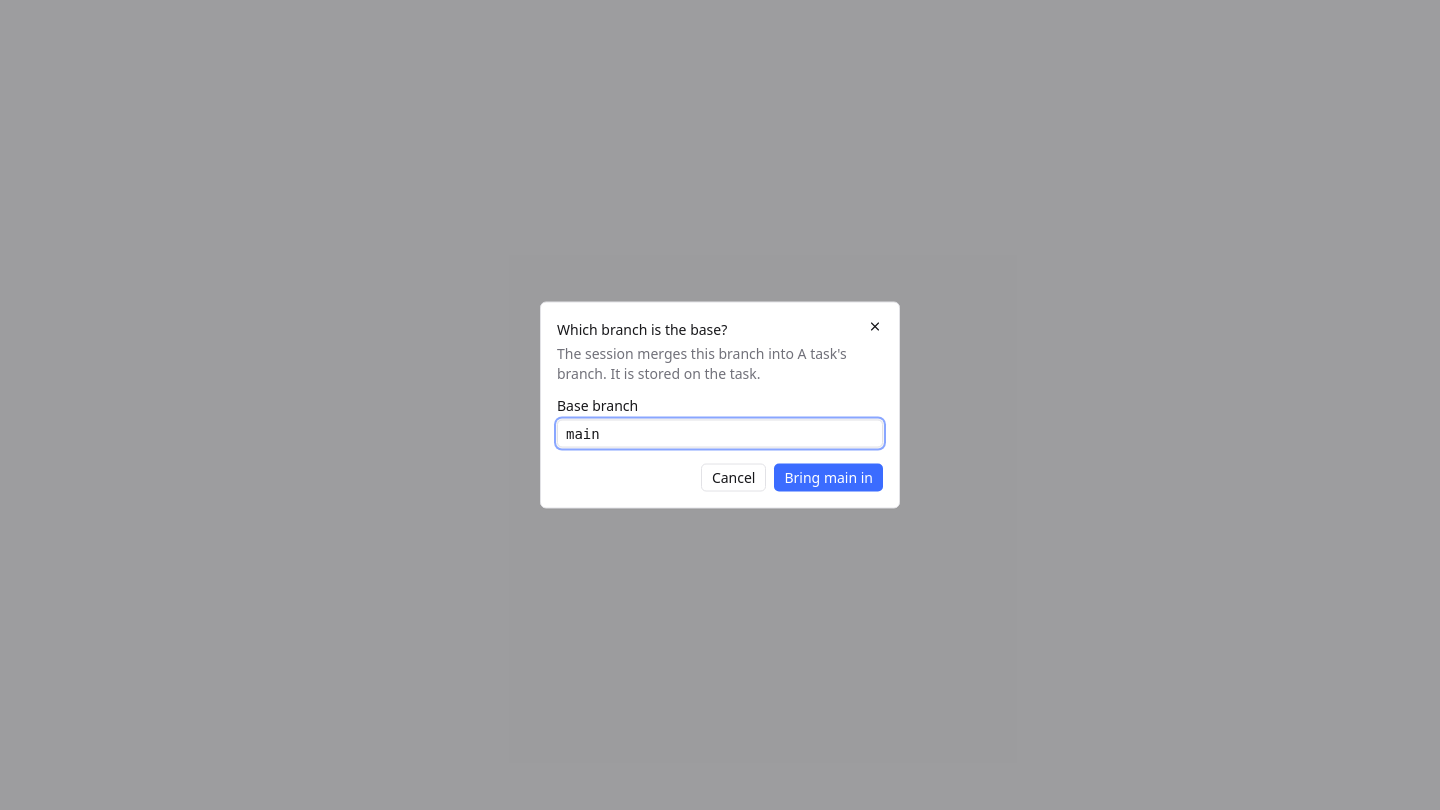
Test: an edited branch is sent, and an Invalid answer shows inline
Replace the text in the field labelled "Base branch" with "bad..name": (720, 434) left=557, top=420, right=883, bottom=448
Then press Enter
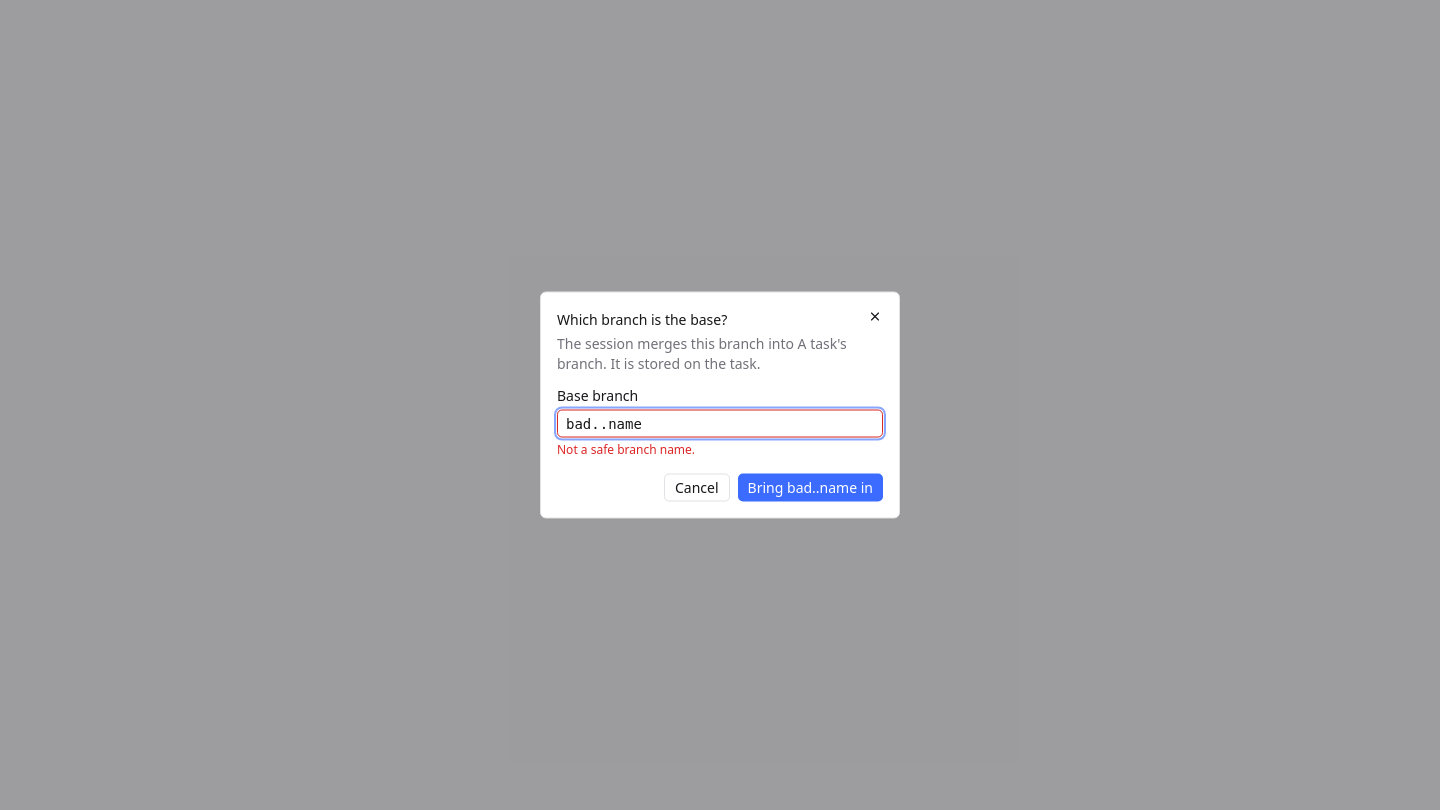
Check: the text "Not a safe branch name." is shown, box left=557, top=440, right=695, bottom=458
